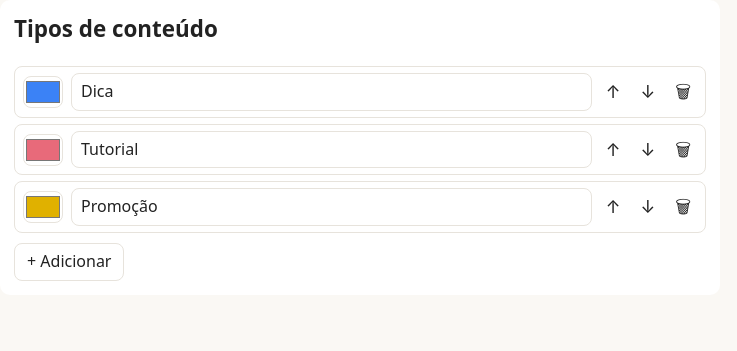
Test: ColorListEditor › lists items and shows the 409 detail on delete
Click the button named "Excluir Dica": (683, 92) x1=669 y1=78 x2=697 y2=106
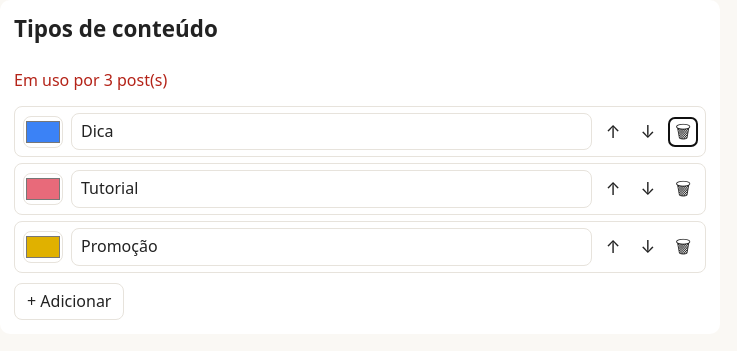
expect the text "Em uso por 3 post(s)" is shown: met, box x1=14 y1=69 x2=167 y2=91
